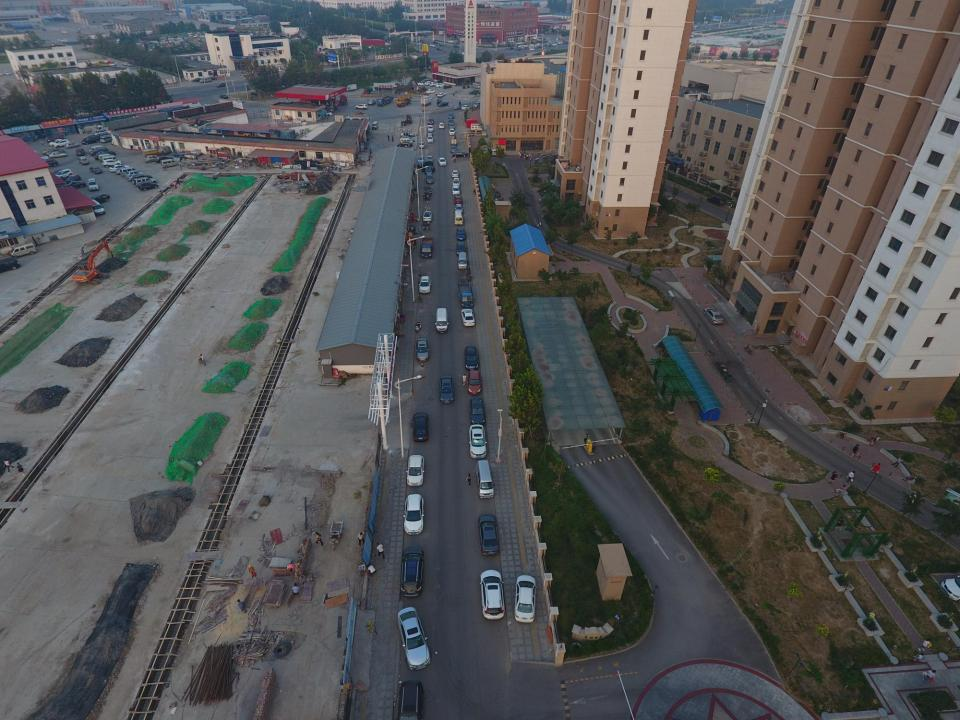car: (397, 607, 431, 670), (400, 545, 424, 597), (480, 570, 504, 620), (396, 680, 424, 720), (516, 574, 538, 622), (403, 494, 424, 536), (478, 514, 498, 555), (469, 425, 487, 459), (406, 455, 424, 487), (412, 412, 429, 442), (469, 395, 485, 426), (438, 376, 454, 404), (464, 346, 479, 370), (467, 370, 481, 395), (704, 307, 723, 325), (0, 257, 20, 274), (415, 338, 429, 361), (706, 195, 726, 207), (132, 176, 156, 186), (461, 309, 475, 326), (55, 168, 73, 180), (138, 181, 158, 191), (419, 276, 430, 294), (63, 180, 85, 189), (132, 174, 152, 183), (126, 173, 146, 182), (110, 164, 130, 173), (36, 159, 58, 167), (114, 167, 132, 176), (88, 178, 100, 191), (66, 173, 80, 184), (416, 160, 434, 168), (46, 148, 64, 156), (103, 160, 121, 168), (90, 147, 108, 155), (456, 242, 467, 255), (96, 150, 116, 157), (53, 140, 70, 148), (124, 171, 143, 178), (94, 153, 116, 159), (456, 228, 466, 241), (451, 150, 467, 158), (49, 151, 67, 158), (82, 137, 100, 144), (42, 147, 57, 155), (156, 156, 173, 163), (421, 166, 435, 174), (399, 130, 415, 137), (144, 155, 158, 163), (100, 135, 114, 143), (422, 210, 432, 221), (49, 139, 64, 146), (83, 135, 100, 141), (52, 168, 63, 177), (94, 129, 108, 136), (397, 142, 413, 148), (47, 136, 63, 142), (90, 167, 103, 174), (74, 148, 85, 156), (401, 136, 415, 142), (355, 103, 367, 110), (319, 110, 333, 116), (65, 142, 79, 148), (452, 186, 460, 196), (455, 204, 463, 213), (454, 196, 462, 205), (452, 178, 460, 187), (216, 82, 228, 88), (451, 170, 459, 178), (438, 158, 446, 166), (426, 155, 433, 163), (417, 156, 424, 164), (206, 76, 217, 81), (454, 104, 463, 110), (367, 99, 376, 105), (462, 105, 472, 110), (469, 89, 479, 94), (427, 135, 433, 143), (448, 118, 454, 126), (438, 92, 446, 98), (451, 146, 457, 153), (448, 129, 455, 135), (449, 123, 455, 130), (448, 112, 454, 119), (427, 89, 435, 94), (425, 81, 433, 86), (436, 82, 444, 87), (192, 78, 202, 82), (438, 122, 444, 128), (427, 130, 433, 136), (428, 125, 434, 131), (428, 118, 434, 124), (439, 102, 448, 106), (234, 99, 243, 103), (219, 94, 228, 98), (430, 82, 438, 86), (419, 142, 424, 148)
truck: (301, 94, 347, 106), (457, 283, 475, 308), (421, 237, 433, 257), (90, 194, 110, 206), (376, 95, 394, 107), (96, 125, 123, 133), (420, 96, 432, 106), (346, 84, 357, 92), (450, 137, 456, 146)
van: (476, 460, 496, 498), (10, 242, 36, 257), (435, 308, 449, 333), (88, 199, 104, 215), (120, 167, 138, 177), (457, 252, 467, 269), (161, 158, 178, 168), (102, 155, 119, 165), (453, 210, 463, 224), (466, 118, 480, 128), (89, 144, 102, 154), (98, 154, 114, 162), (489, 148, 504, 156), (77, 157, 89, 165), (426, 172, 433, 184), (400, 138, 413, 144), (470, 126, 483, 132), (199, 77, 212, 83), (471, 123, 482, 129), (322, 106, 333, 112), (372, 120, 378, 130), (472, 83, 482, 89), (474, 102, 483, 108)
